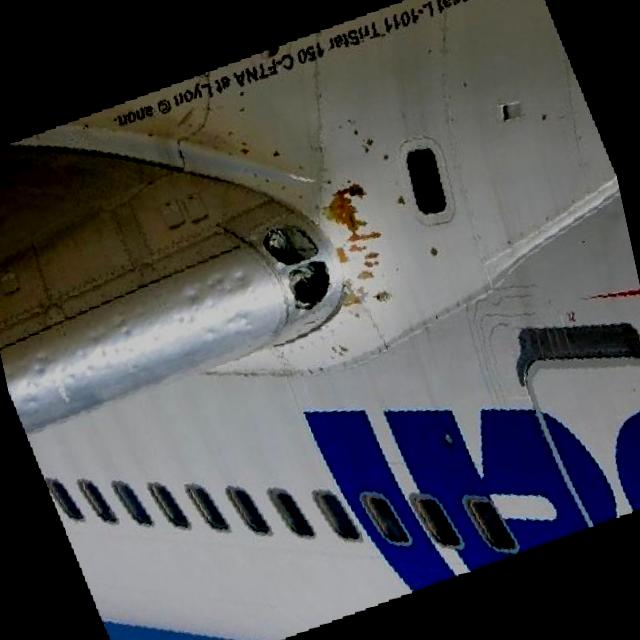dent: (0, 258, 269, 412)
